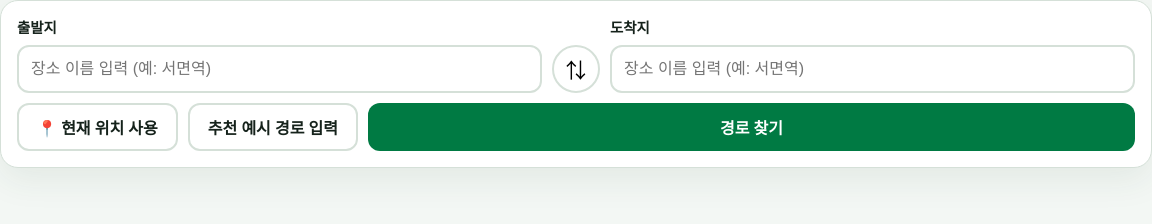
Test: 출발지·도착지 장소 검색 › 선택되지 않은 출발지를 즉시 안내하고 해당 입력으로 초점을 옮긴다
The image size is (1152, 224).
Click the button "경로 찾기" at (752, 127), box [368,103,1135,151]
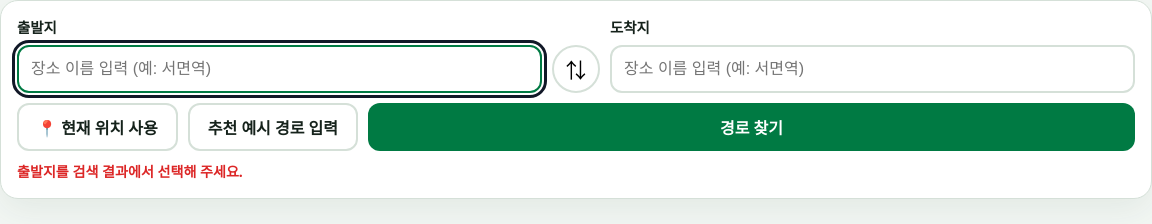
Result: the message shows "출발지" at [17,162,243,181]
